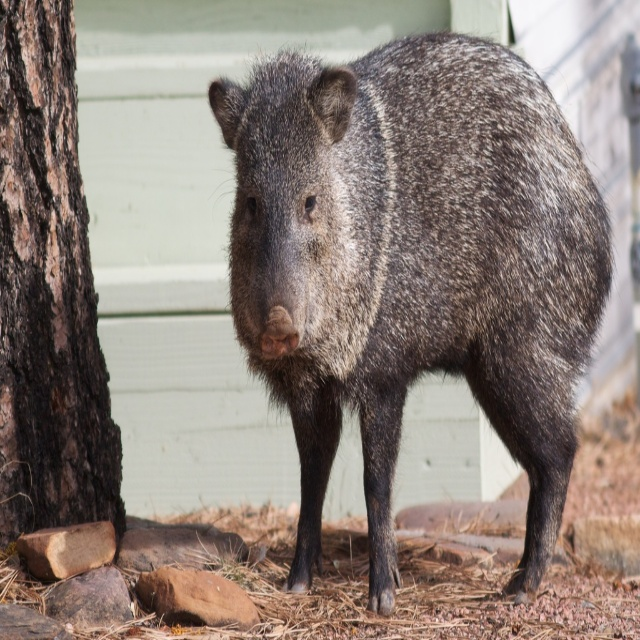Pig: (206, 38, 617, 618)
